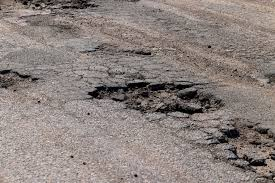potholes: (92, 82, 221, 117)
